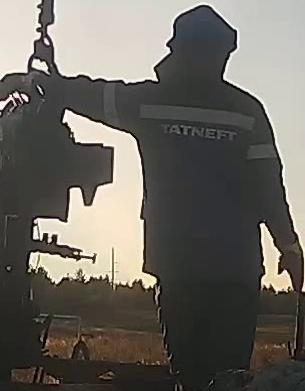gloves: (275, 236, 305, 292)
vest: (133, 79, 279, 277)
